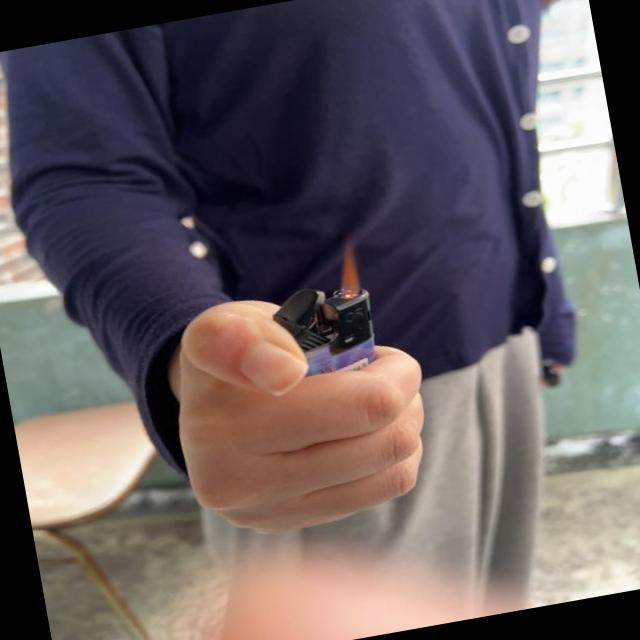Fire: (327, 239, 364, 300)
